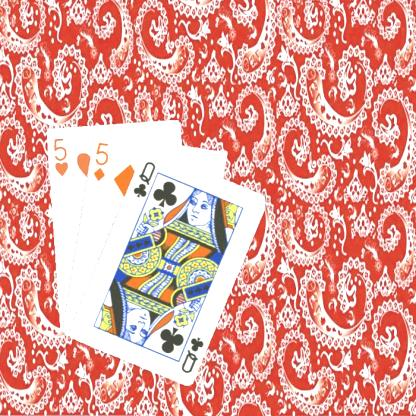5D: (90, 139, 110, 182)
5H: (50, 135, 69, 177)
QC: (130, 158, 157, 199), (178, 334, 205, 374)
